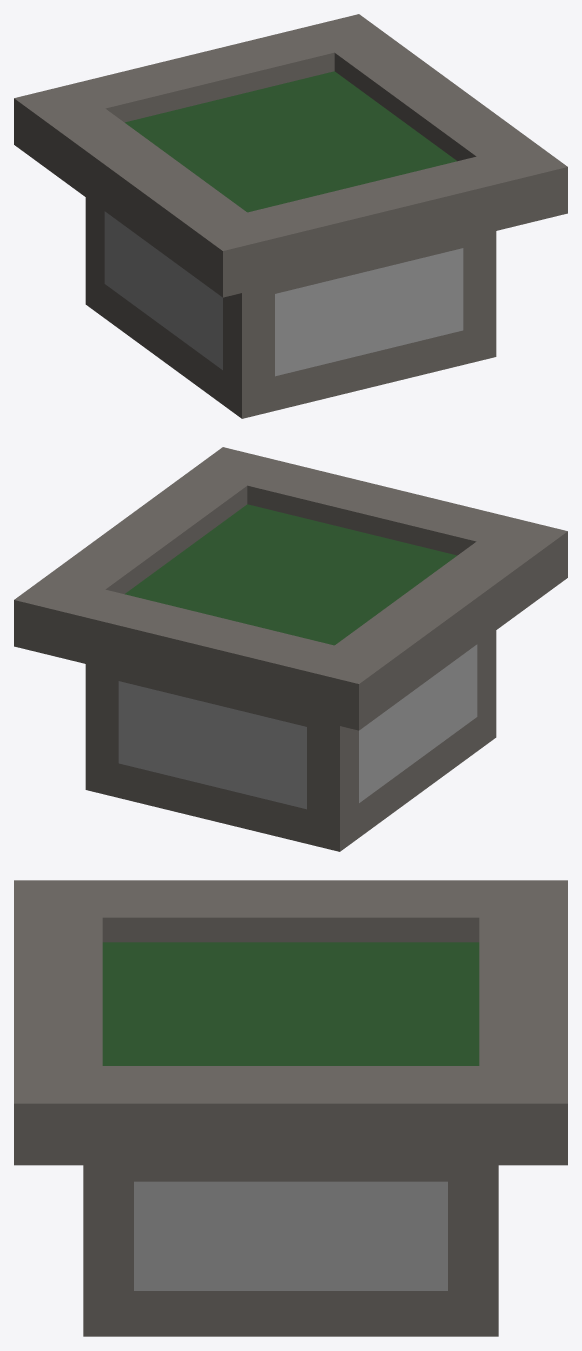
File: plant pot2.FBX
3 views of the same model, one above another, from view 1: azimuth 30°, elevation 25°; view 2: azimuth 150°, elevation 25°; view 3: azimuth 270°, elevation 25° (orthographic). The views are drawn at different scales.
Parts seen in each view (by area): view 1: plant pot2; view 2: plant pot2; view 3: plant pot2.
Boxes of the visible parts, x1,y1,x2,y2 form: plant pot2: (14,14,567,418); plant pot2: (14,447,567,851); plant pot2: (14,880,567,1336).
Bounding box in the file's own units: 3 × 1.65 × 3.15.
